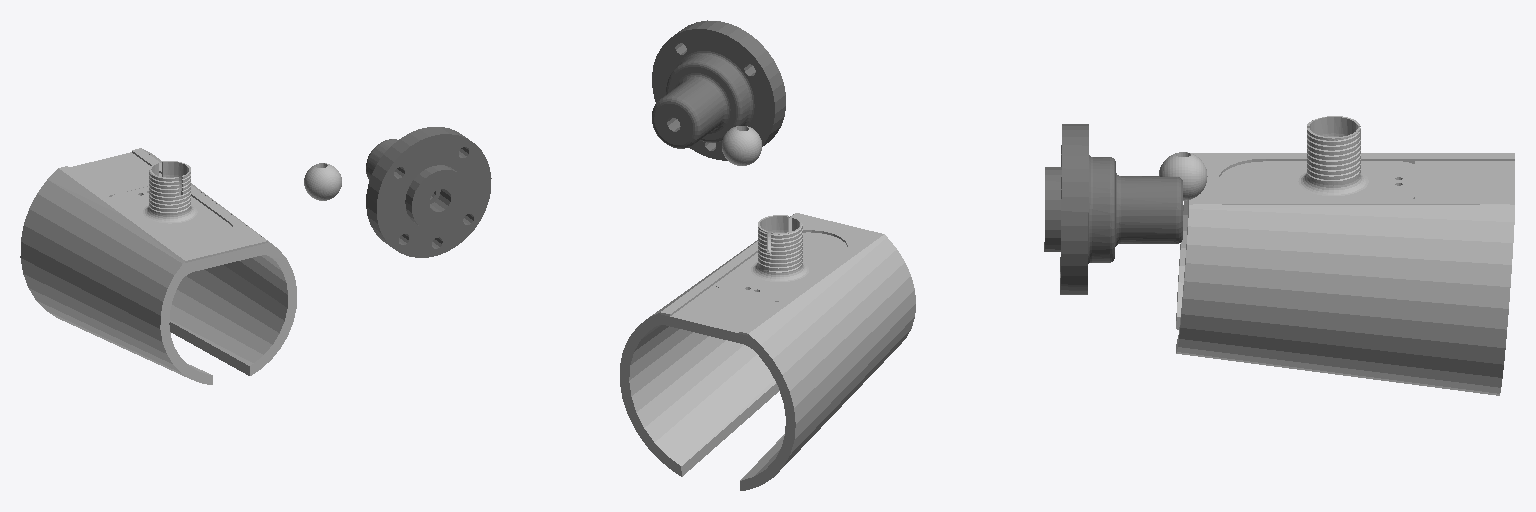
URDF robot description (herramienta_terminal):
<?xml version="1.0" encoding="utf-8"?>
<!-- This URDF was automatically created by SolidWorks to URDF Exporter! Originally created by [author] ([email redacted]) 
     Commit Version: 1.6.0-1-g15f4949  Build Version: 1.6.7594.29634
     For more information, please see http://wiki.ros.org/sw_urdf_exporter -->
<robot
  name="herramienta_terminal">
  <link
    name="base_link">
    <inertial>
      <origin
        xyz="0.061371 0.0041464 3.6399E-07"
        rpy="0 0 0" />
      <mass
        value="0.13409" />
      <inertia
        ixx="0.00018118"
        ixy="-5.6666E-06"
        ixz="-1.0882E-10"
        iyy="0.00026696"
        iyz="-5.2652E-10"
        izz="0.00022741" />
    </inertial>
    <visual>
      <origin
        xyz="0 0 0"
        rpy="0 0 0" />
      <geometry>
        <mesh
          filename="package://herramienta_terminal/meshes/base_link.STL" />
      </geometry>
      <material
        name="">
        <color
          rgba="0.74902 0.74902 0.74902 1" />
      </material>
    </visual>
    <collision>
      <origin
        xyz="0 0 0"
        rpy="0 0 0" />
      <geometry>
        <mesh
          filename="package://herramienta_terminal/meshes/base_link.STL" />
      </geometry>
    </collision>
  </link>
  <link
    name="esfera_Link">
    <inertial>
      <origin
        xyz="-8.9546E-12 -3.1684E-09 -0.00034394"
        rpy="0 0 0" />
      <mass
        value="0.0028424" />
      <inertia
        ixx="9.287E-08"
        ixy="-2.0463E-17"
        ixz="1.3833E-16"
        iyy="9.2869E-08"
        iyz="6.1244E-14"
        izz="9.8145E-08" />
    </inertial>
    <visual>
      <origin
        xyz="0 0 0"
        rpy="0 0 0" />
      <geometry>
        <mesh
          filename="package://herramienta_terminal/meshes/esfera_Link.STL" />
      </geometry>
      <material
        name="">
        <color
          rgba="0.74902 0.74902 0.74902 1" />
      </material>
    </visual>
    <collision>
      <origin
        xyz="0 0 0"
        rpy="0 0 0" />
      <geometry>
        <mesh
          filename="package://herramienta_terminal/meshes/esfera_Link.STL" />
      </geometry>
    </collision>
  </link>
  <joint
    name="esfera_Joint"
    type="continuous">
    <origin
      xyz="0.0515463172434223 0 0.054914971458553"
      rpy="0 -0.0655531155814387 0" />
    <parent
      link="base_link" />
    <child
      link="esfera_Link" />
    <axis
      xyz="0 1 0" />
  </joint>
  <link
    name="herramienta_Link">
    <inertial>
      <origin
        xyz="-0.034707 0.041986 -1.3795E-14"
        rpy="0 0 0" />
      <mass
        value="0.055831" />
      <inertia
        ixx="1.7249E-05"
        ixy="-4.958E-08"
        ixz="1.6149E-20"
        iyy="1.8328E-05"
        iyz="-4.1307E-19"
        izz="1.7072E-05" />
    </inertial>
    <visual>
      <origin
        xyz="0 0 0"
        rpy="0 0 0" />
      <geometry>
        <mesh
          filename="package://herramienta_terminal/meshes/herramienta_Link.STL" />
      </geometry>
      <material
        name="">
        <color
          rgba="0.50196 0.50196 0.50196 1" />
      </material>
    </visual>
    <collision>
      <origin
        xyz="0 0 0"
        rpy="0 0 0" />
      <geometry>
        <mesh
          filename="package://herramienta_terminal/meshes/herramienta_Link.STL" />
      </geometry>
    </collision>
  </link>
  <joint
    name="herramienta_Joint"
    type="continuous">
    <origin
      xyz="0.0348336394734481 0 0"
      rpy="1.5707963267949 0 0" />
    <parent
      link="esfera_Link" />
    <child
      link="herramienta_Link" />
    <axis
      xyz="1 0 0" />
  </joint>
</robot>

--- What the picture shows (computed from the rendered views, not written in the file) ---
3 views of the same robot in one strip: view 1: azimuth 30°, elevation 25°; view 2: azimuth 150°, elevation 25°; view 3: azimuth 270°, elevation 25° (orthographic).
Model herramienta_terminal with 3 links and 2 joints (2 continuous), rooted at base_link, posed all joints at 0.
Links seen in each view (by area): view 1: base_link, herramienta_Link, esfera_Link; view 2: base_link, herramienta_Link, esfera_Link; view 3: base_link, herramienta_Link, esfera_Link.
Link boxes in pixels (bbox=[...]): base_link: bbox=[20, 148, 296, 384]; herramienta_Link: bbox=[366, 127, 491, 257]; esfera_Link: bbox=[304, 163, 341, 200]; base_link: bbox=[620, 213, 915, 490]; herramienta_Link: bbox=[652, 20, 785, 160]; esfera_Link: bbox=[722, 126, 761, 165]; base_link: bbox=[1176, 116, 1514, 395]; herramienta_Link: bbox=[1044, 124, 1182, 294]; esfera_Link: bbox=[1159, 152, 1207, 200].
Size in the robot's own frame: 0.1627 by 0.1737 by 0.1403 metres.
Meshes: 3 distinct files referenced, 3 mesh visuals loaded (3 binary STL).